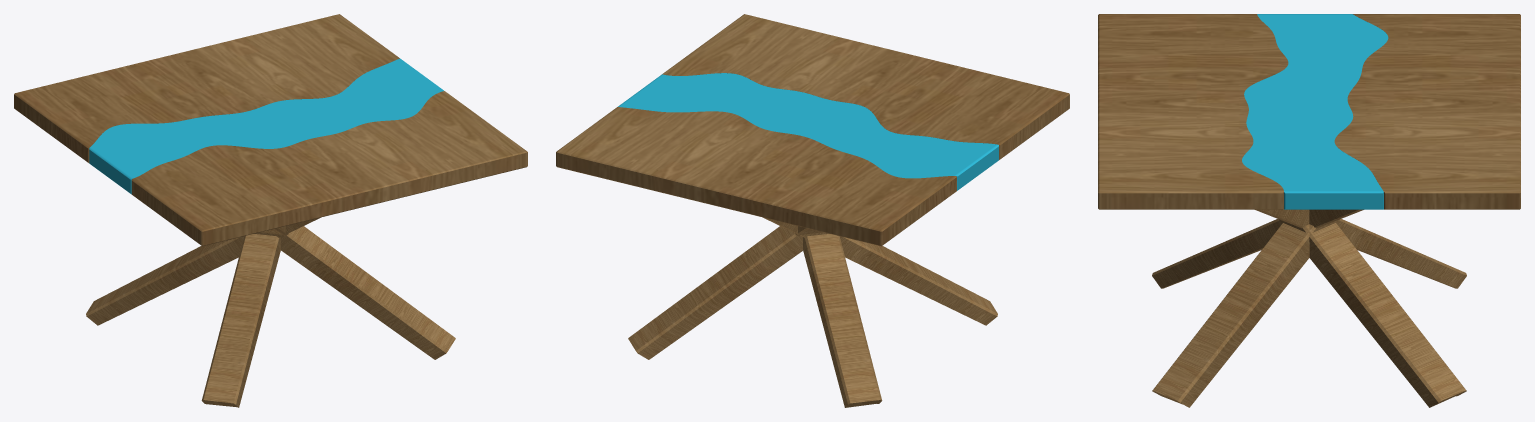
Rendered from square-oak-epoxy-ocean.glb.
3 renders of one model, left to right at view 1: azimuth 30°, elevation 25°; view 2: azimuth 150°, elevation 25°; view 3: azimuth 270°, elevation 25°, orthographic. The views are drawn at different scales.
Visible parts, largest first — view 1: Wood_Square_EpoxyFar, Wood_Square_EpoxyNear, Base_Square, Resin_Square; view 2: Wood_Square_EpoxyNear, Wood_Square_EpoxyFar, Base_Square, Resin_Square; view 3: Wood_Square_EpoxyFar, Wood_Square_EpoxyNear, Base_Square, Resin_Square.
Boxes of the visible parts, x1,y1,x2,y2 form: Wood_Square_EpoxyFar: (131, 91, 527, 246); Wood_Square_EpoxyNear: (14, 14, 399, 162); Base_Square: (86, 217, 455, 407); Resin_Square: (89, 58, 443, 194); Wood_Square_EpoxyNear: (556, 107, 956, 246); Wood_Square_EpoxyFar: (662, 14, 1069, 159); Base_Square: (628, 217, 997, 407); Resin_Square: (618, 73, 998, 190); Wood_Square_EpoxyFar: (1098, 14, 1288, 209); Wood_Square_EpoxyNear: (1334, 14, 1520, 209); Base_Square: (1152, 209, 1466, 407); Resin_Square: (1242, 14, 1388, 209).
Size of the model in its own units: 1.22 by 0.762 by 1.22.
2 materials, 1 textured.
